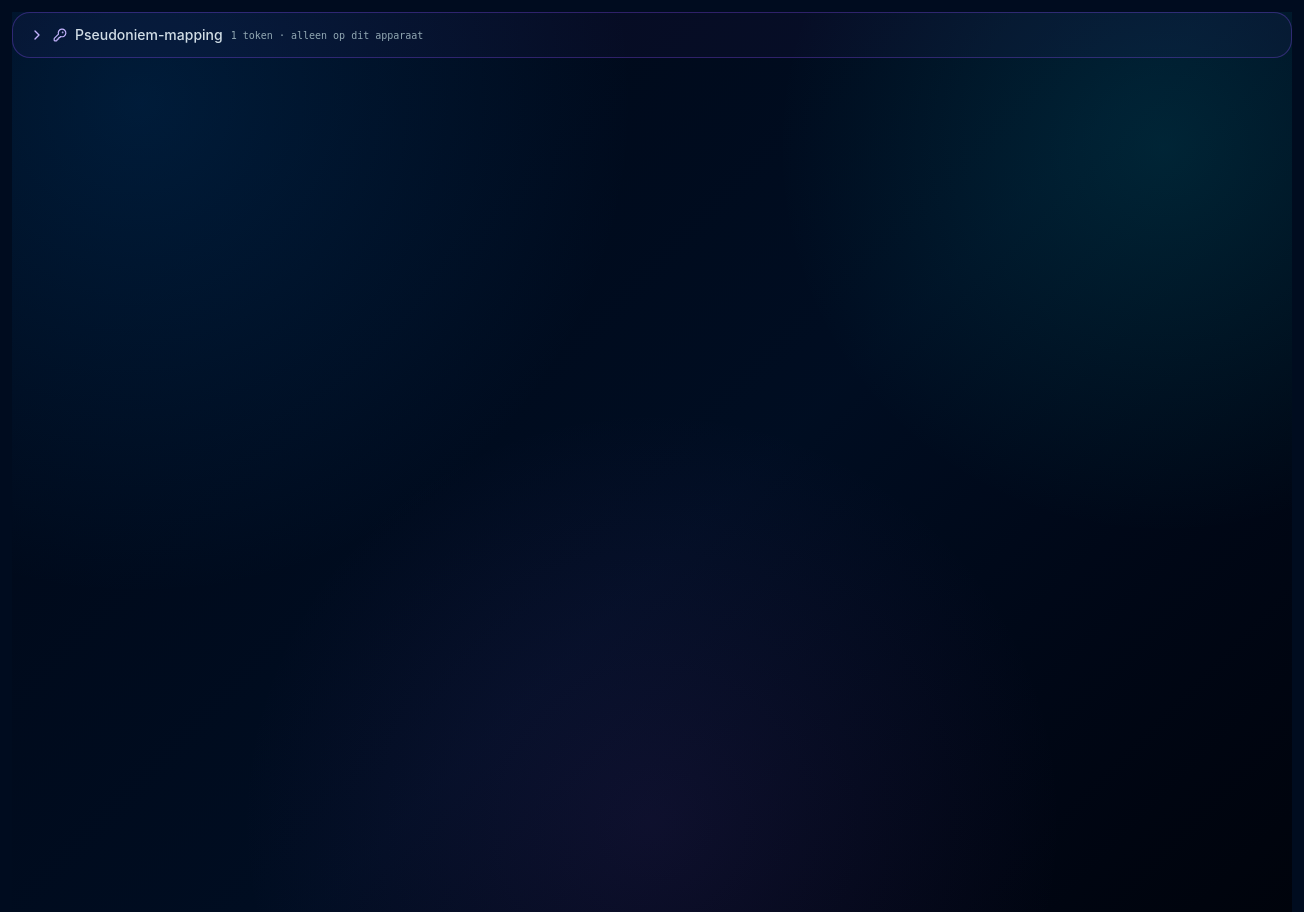
MappingViewer, lokale sleutel › kopieert niet meteen, maar vraagt eerst om bevestiging
The image size is (1304, 912).
Click the button.
click(149, 34)  # box [13,13,1291,57]
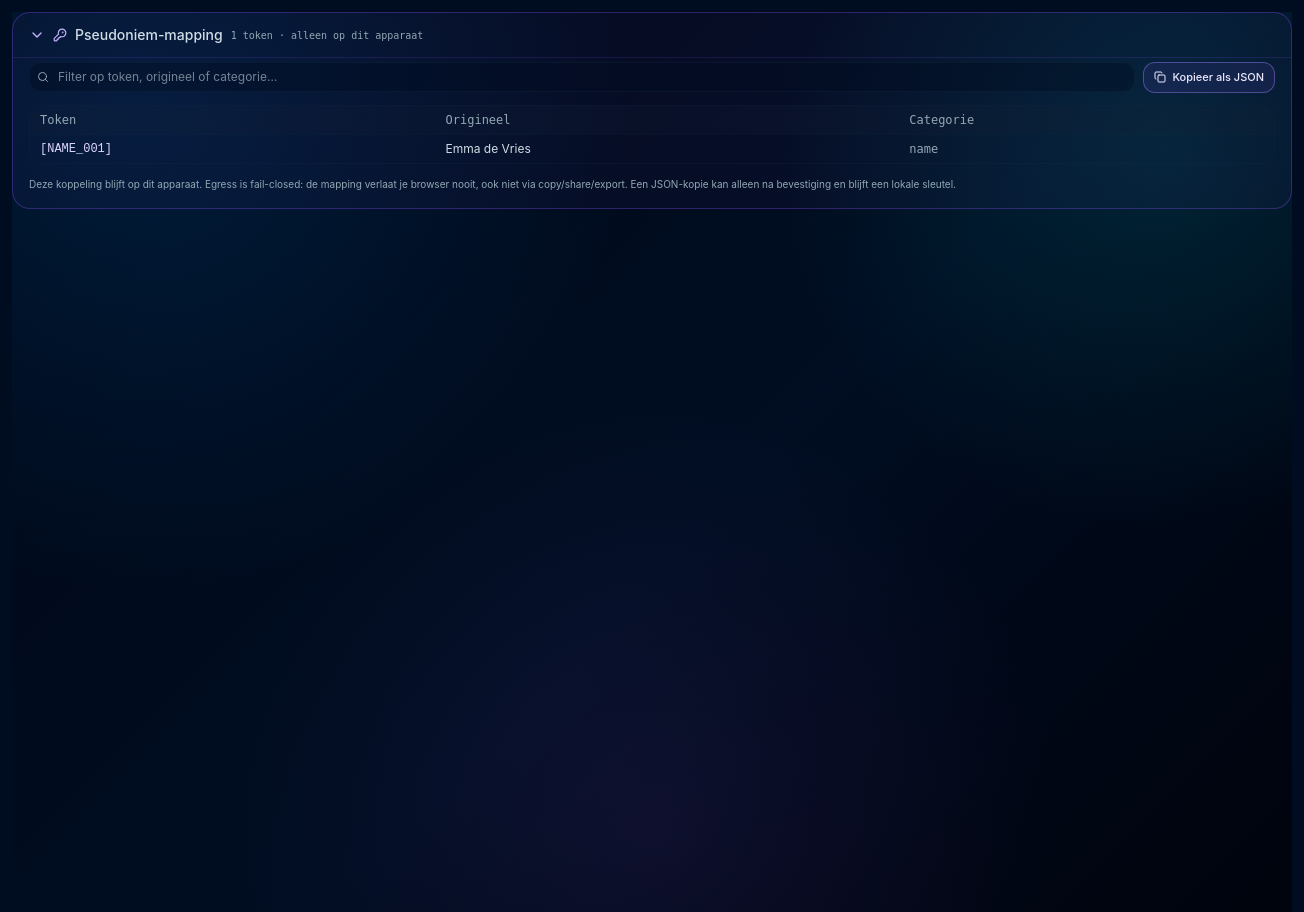
Click the button "Kopieer als JSON".
click(1209, 77)  # box [1144,62,1275,92]
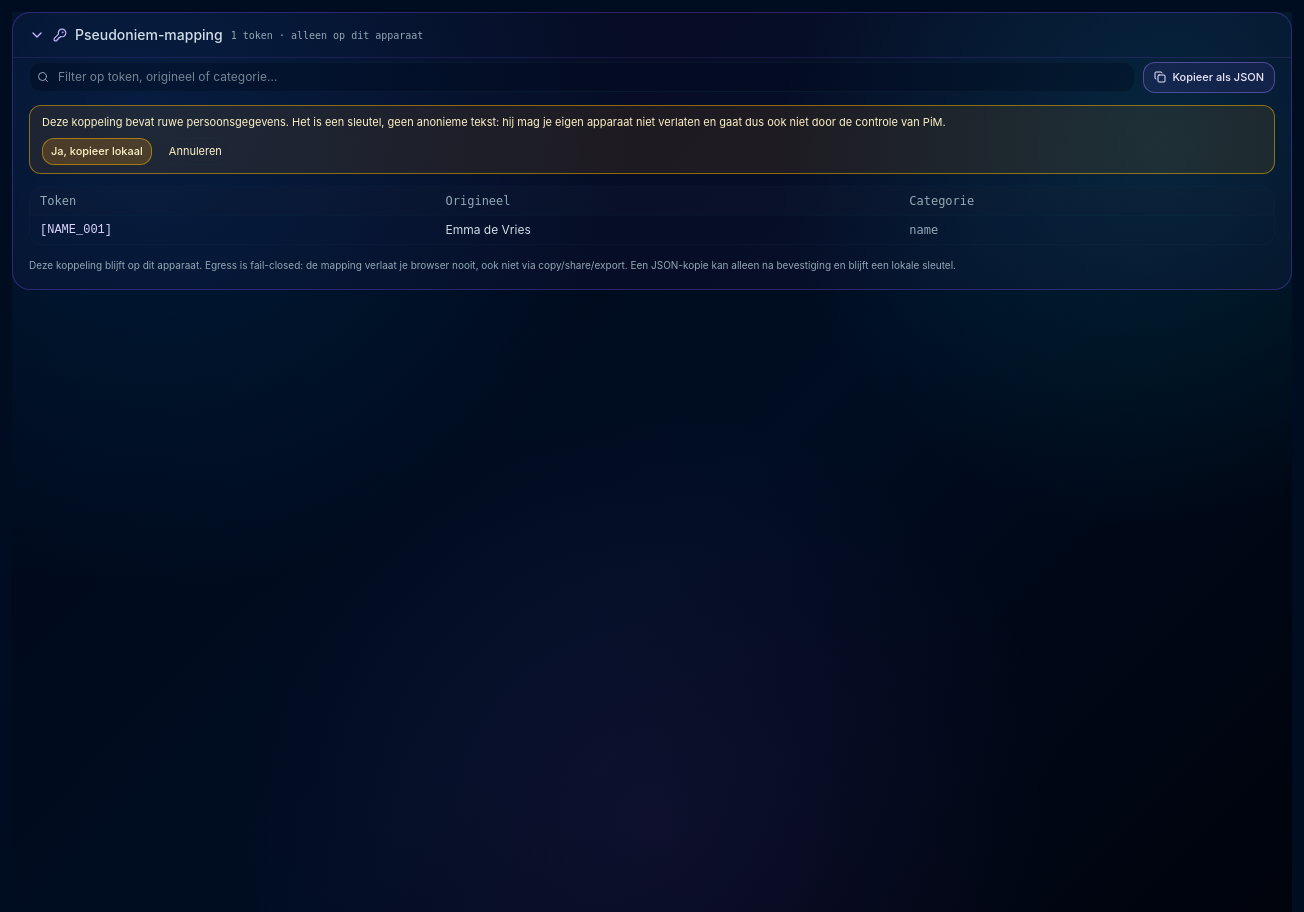
Check: the element with test id "mapping-copy-confirm" is shown, box [29,104,1275,174]
